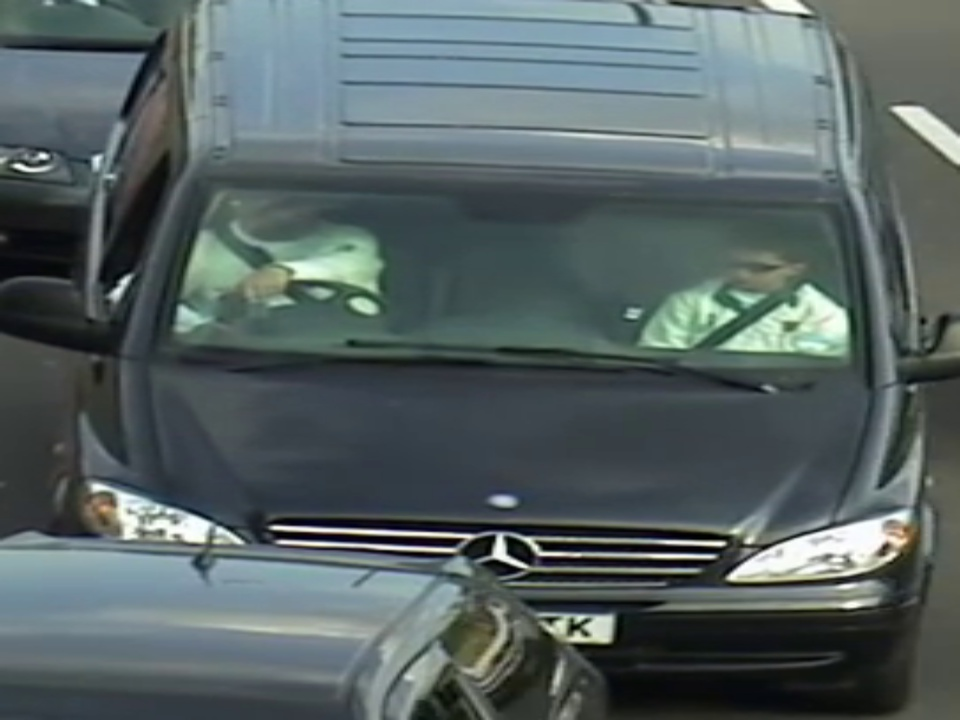TWO: (179, 176, 860, 368)
